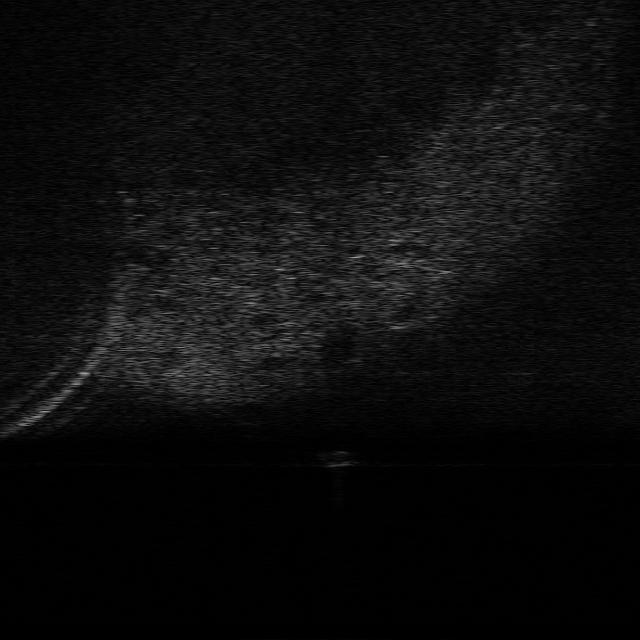cube: (314, 449, 358, 469)
